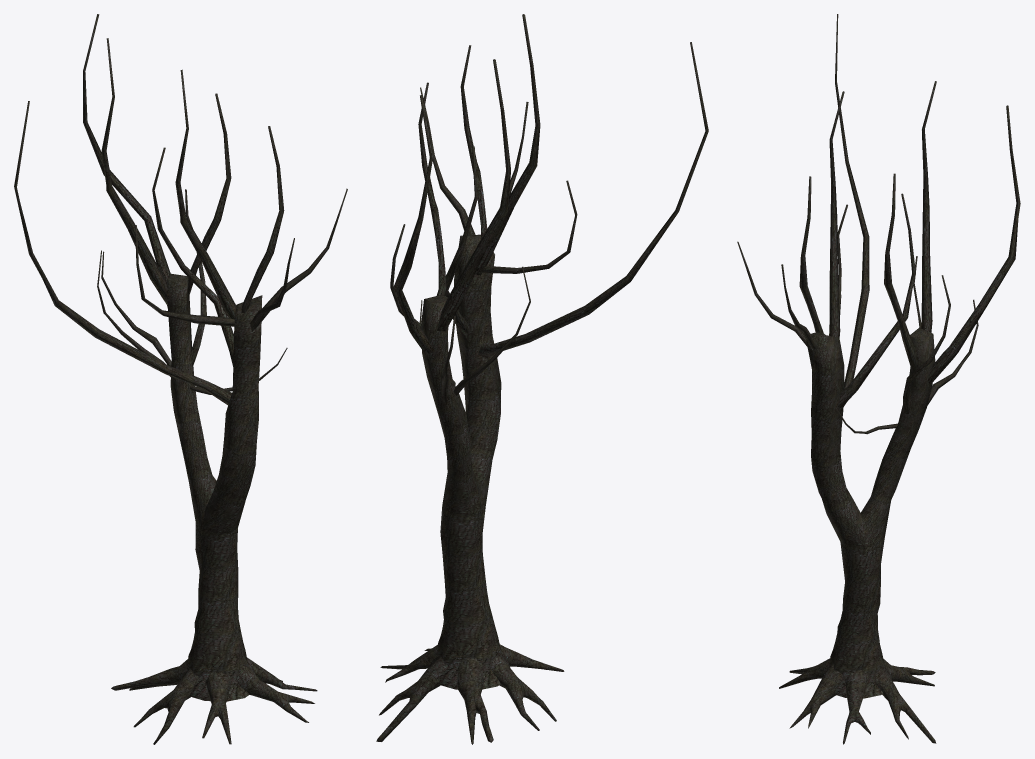
The model's file is large_oak_bare.DAE.
The picture shows the model from 3 angles, left to right: view 1: azimuth 30°, elevation 25°; view 2: azimuth 150°, elevation 25°; view 3: azimuth 270°, elevation 25°; orthographic projection. The views are drawn at different scales.
Parts seen in each view (by area): view 1: large_oak_test_01_Bark; view 2: large_oak_test_01_Bark; view 3: large_oak_test_01_Bark.
Part boxes in pixels (x1=…): large_oak_test_01_Bark: x1=14, y1=14, x2=347, y2=744; large_oak_test_01_Bark: x1=376, y1=14, x2=708, y2=744; large_oak_test_01_Bark: x1=737, y1=14, x2=1020, y2=744.
Size of the model in its own units: 10.08 by 21.45 by 8.86.
